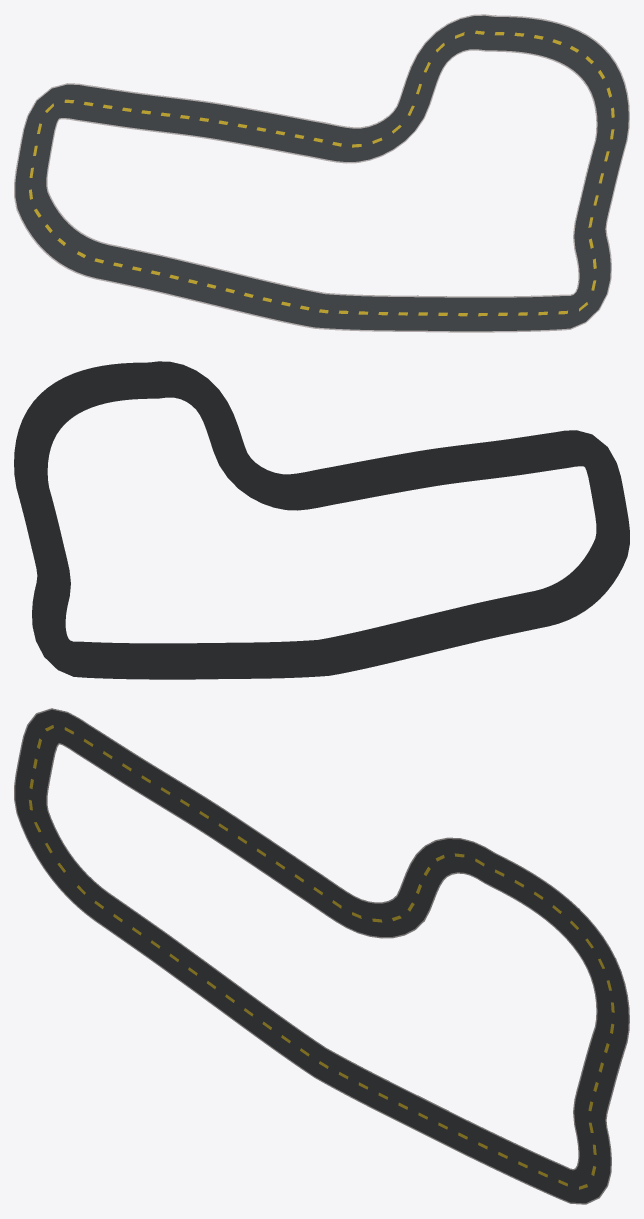
The model's file is track.obj.
3 renders of one model, top to bottom at view 1: azimuth 30°, elevation 25°; view 2: azimuth 150°, elevation 25°; view 3: azimuth 330°, elevation 25°, orthographic.
Bounding box in the file's own units: 19.52 × 11.19 × 0.002.
